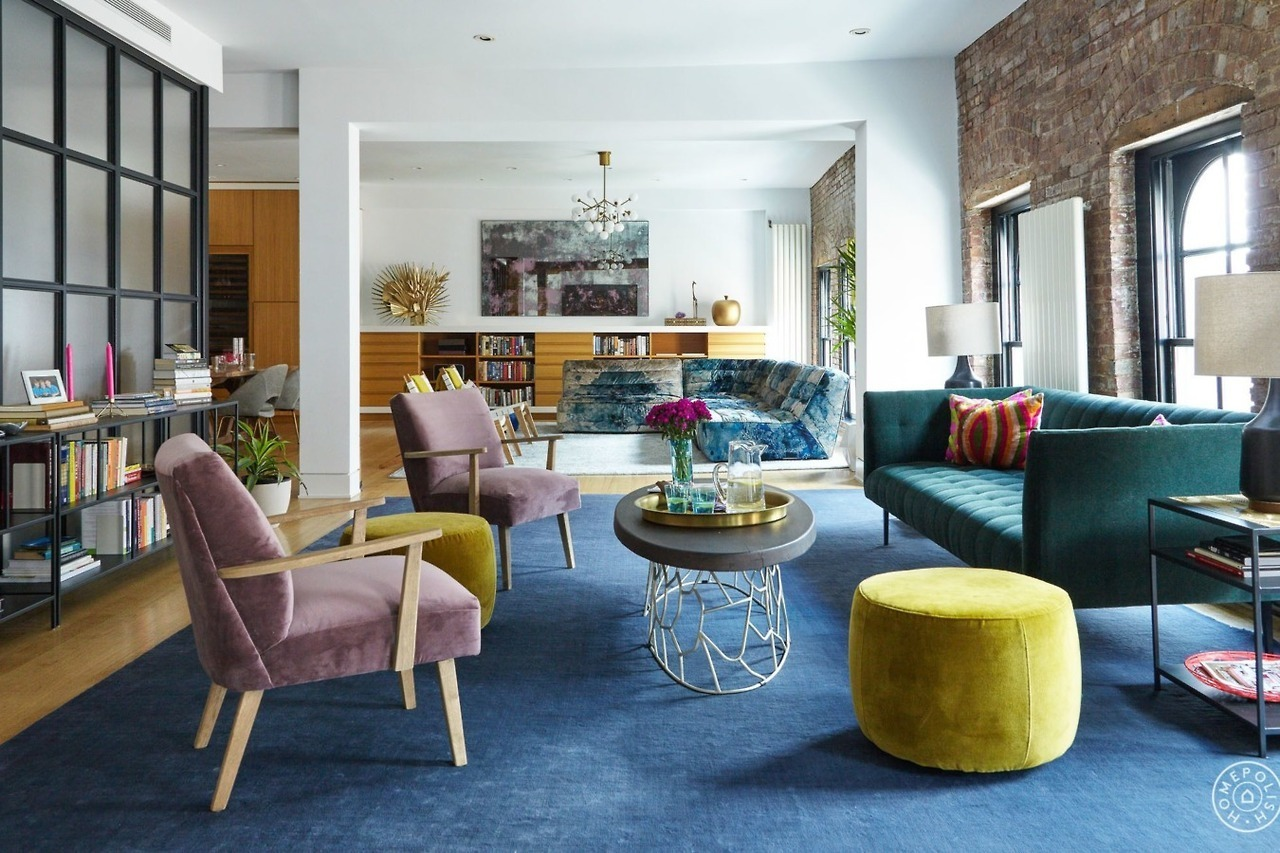hijau: (863, 387, 1150, 564)
kuning: (842, 571, 1093, 777)
pink: (104, 344, 117, 399), (66, 345, 76, 399)
putih: (1189, 275, 1280, 374), (922, 303, 1008, 353), (250, 476, 291, 516)
ungu: (158, 434, 481, 662), (394, 392, 581, 517)
